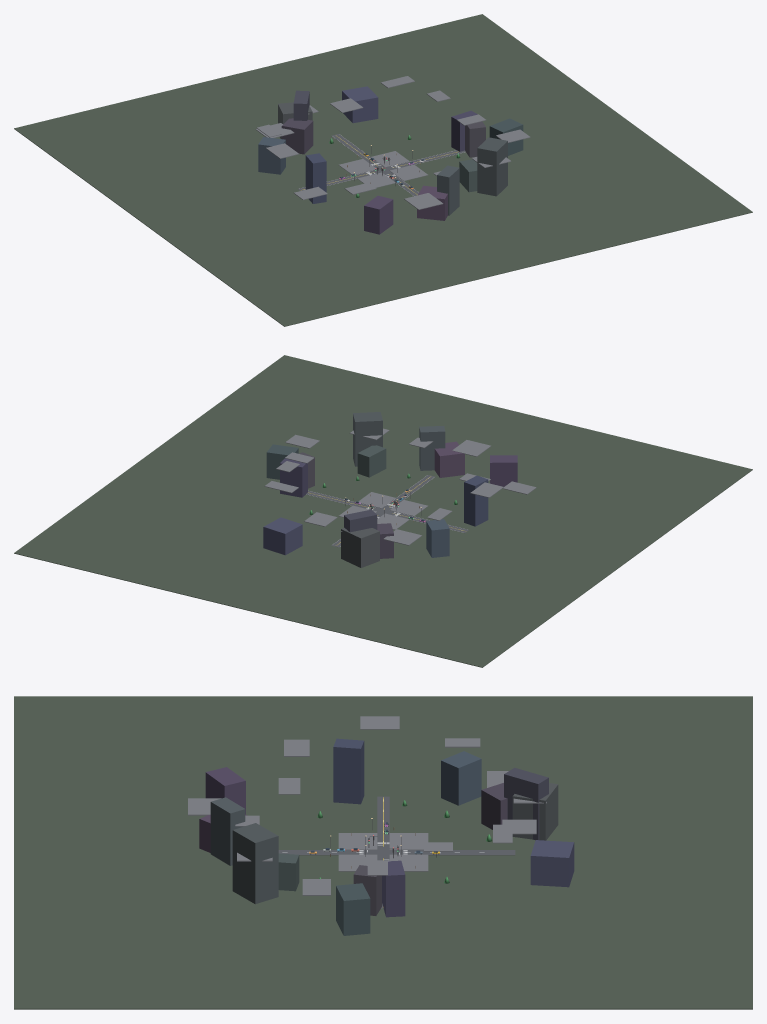
File: intersection.glb
3 renders of one model, top to bottom at view 1: azimuth 30°, elevation 25°; view 2: azimuth 150°, elevation 25°; view 3: azimuth 270°, elevation 25°, orthographic. The views are drawn at different scales.
Visible parts, largest first — view 1: Ground, Bldg7, Bldg8, Bldg10, Bldg1, Bldg3, Bldg6, Bldg4, Bldg5, RoadEW, Bldg13, RoadNS (+3 smaller); view 2: Ground, Bldg12, Bldg10, Bldg7, Bldg1, Bldg5, Bldg6, Bldg4, Bldg8, Bldg9, Bldg0, Bldg13 (+2 smaller); view 3: Ground, Bldg7, Bldg1, Bldg10, Bldg4, Bldg6, Bldg13, Bldg2, Bldg12, Bldg8, Bldg0, RoadNS (+9 smaller).
Boxes of the visible parts, x1,y1,x2,y2 form: Ground: (14,14,752,326); Bldg7: (477,137,507,196); Bldg8: (364,195,393,234); Bldg10: (342,86,378,123); Bldg1: (305,153,326,203); Bldg3: (281,118,313,154); Bldg6: (437,165,459,215); Bldg4: (258,137,285,174); Bldg5: (417,185,447,220); RoadEW: (298,150,465,190); Bldg13: (489,118,523,155); RoadNS: (331,134,418,196); Ground: (14,355,752,667); Bldg12: (341,527,379,567); Bldg10: (263,517,302,555); Bldg7: (353,412,382,466); Bldg1: (464,475,488,526); Bldg5: (434,441,464,477); Bldg6: (419,426,445,470); Bldg4: (426,519,449,557); Bldg8: (490,455,517,486); Bldg9: (357,445,386,477); Bldg0: (280,458,307,497); Bldg13: (266,444,298,479); Ground: (14,696,752,1009); Bldg7: (232,823,278,904); Bldg1: (333,738,364,804); Bldg10: (530,840,574,887); Bldg4: (441,751,481,805); Bldg6: (210,797,245,865); Bldg13: (336,883,370,935); Bldg2: (504,767,548,840); Bldg12: (512,783,558,840); Bldg8: (205,767,245,814); Bldg0: (382,860,405,917); RoadNS: (278,850,515,855).
Size of the model in its own units: 420 by 39.29 by 420.
